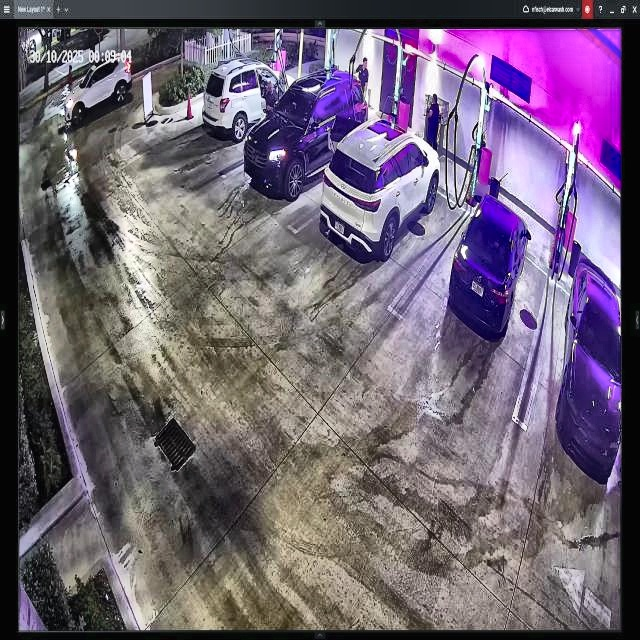Car: (322, 114, 438, 261), (244, 71, 370, 193), (449, 192, 530, 345), (202, 57, 296, 144)
